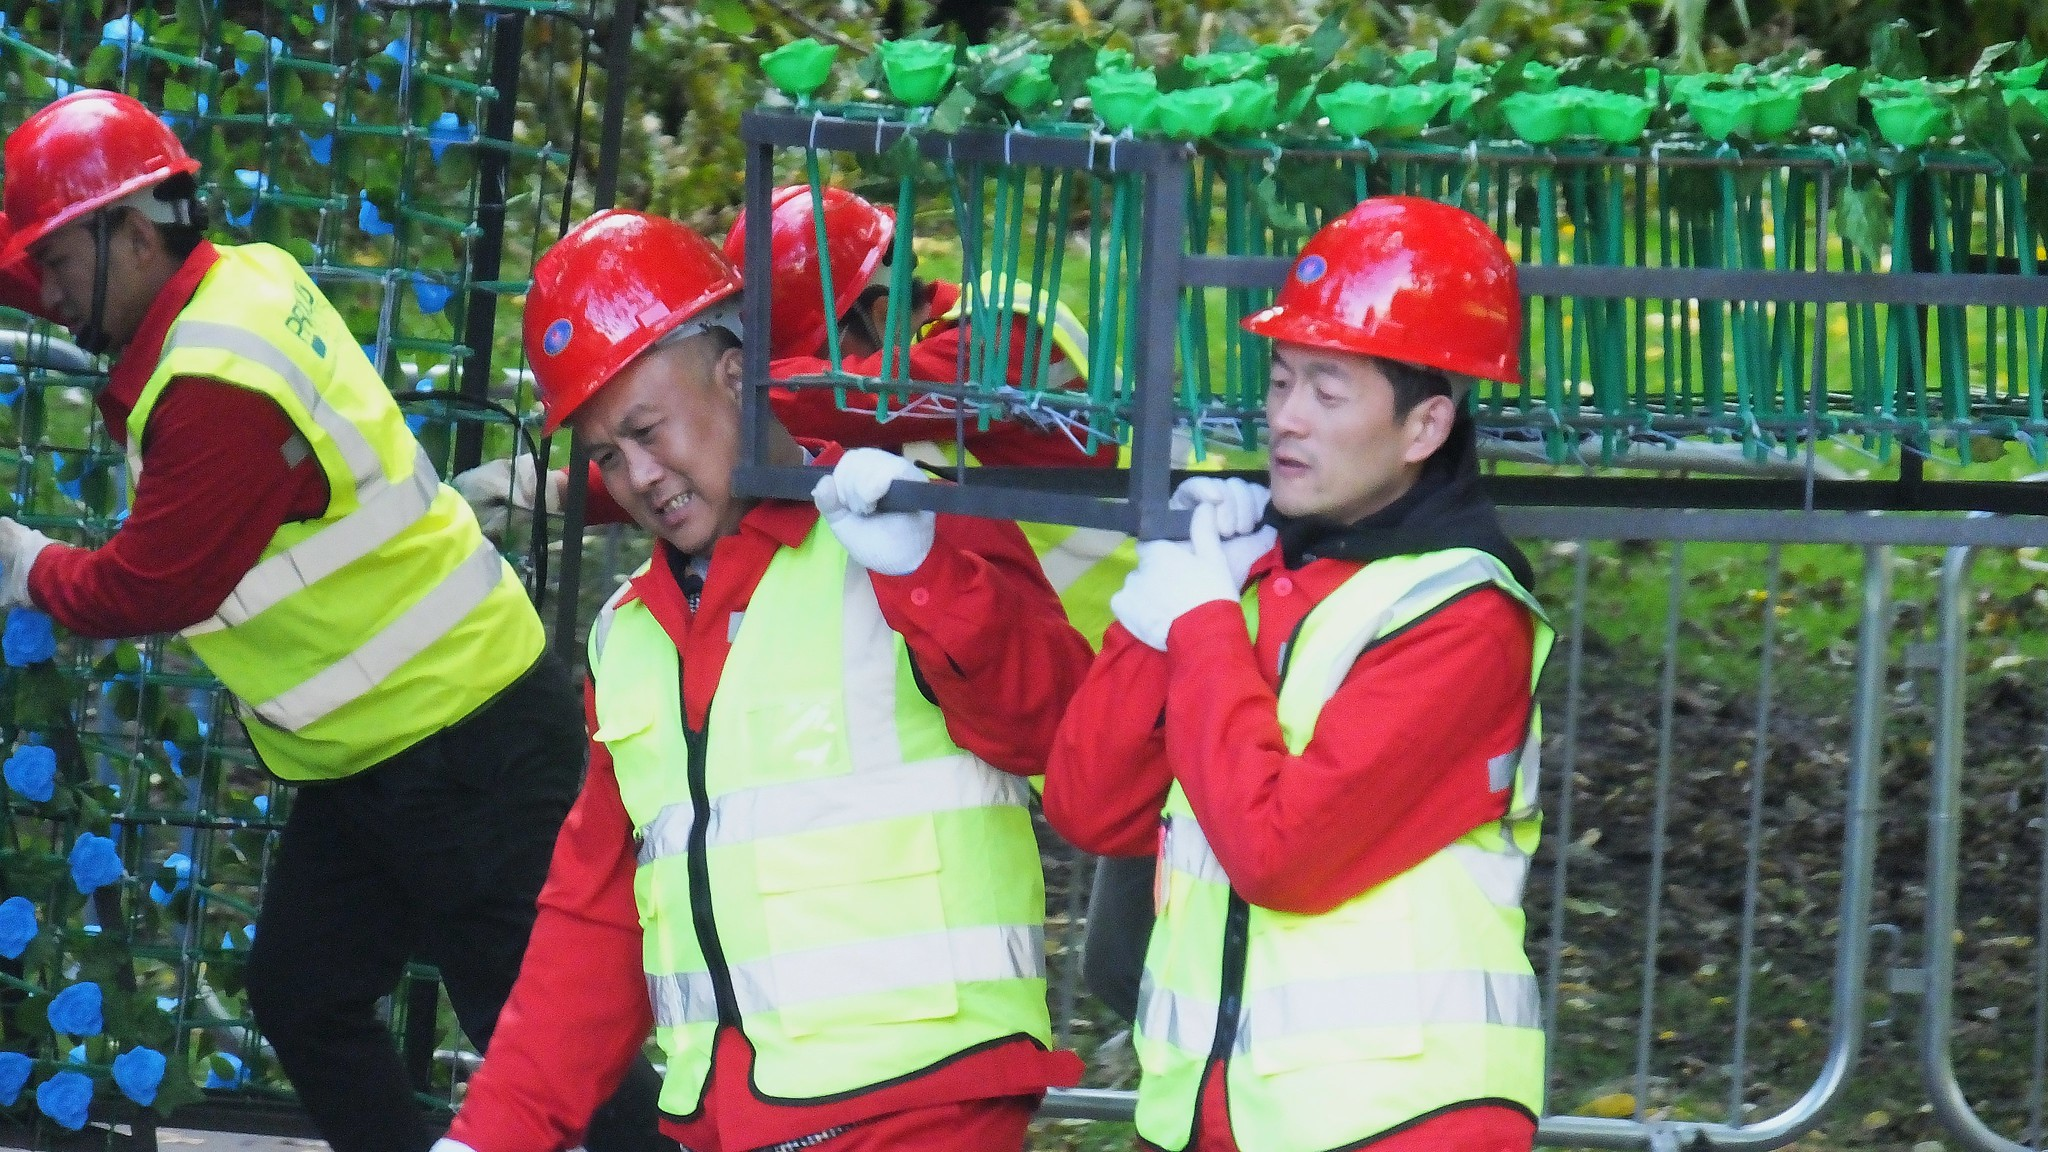Helmet: (1173, 190, 1544, 625), (492, 191, 793, 580), (1, 76, 215, 399), (713, 166, 965, 414)
Reflective vest: (578, 513, 1068, 1113), (1124, 550, 1563, 1152), (96, 225, 535, 768)
